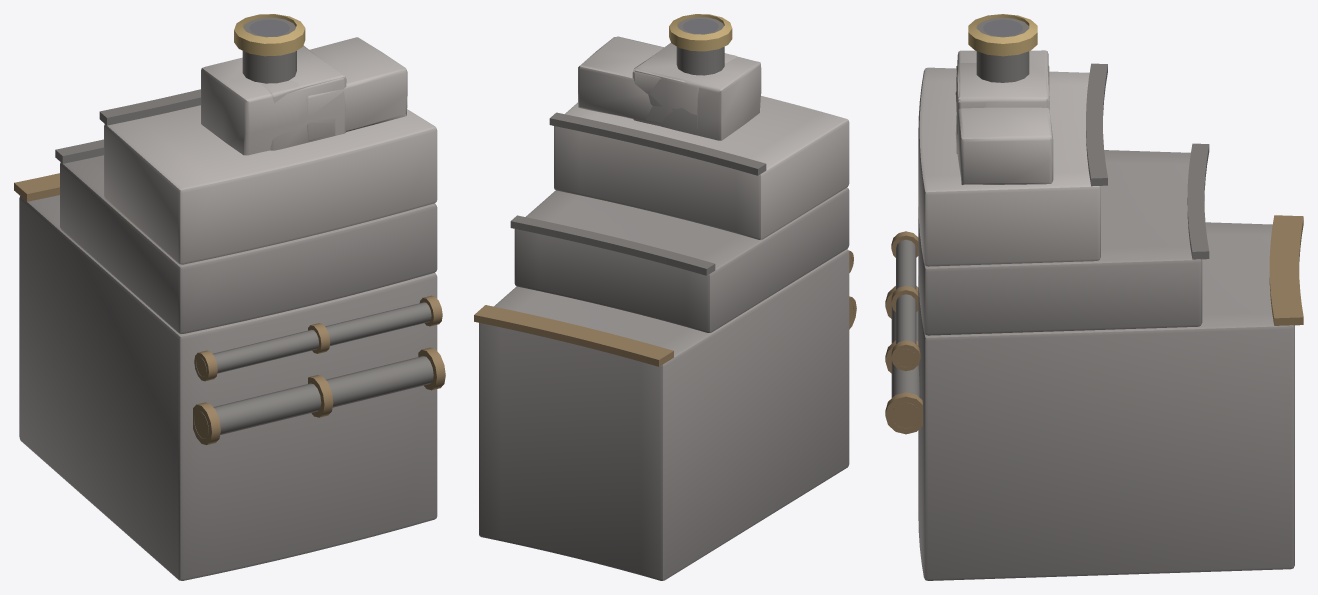
The model's file is SM_Area2_Wall_Vent.glb.
3 views of the same model, side by side, from view 1: azimuth 30°, elevation 25°; view 2: azimuth 150°, elevation 25°; view 3: azimuth 270°, elevation 25° (orthographic). The views are drawn at different scales.
Parts seen in each view (by area): view 1: SM_Area2_Wall_Vent; view 2: SM_Area2_Wall_Vent; view 3: SM_Area2_Wall_Vent.
Boxes of the visible parts, x1,y1,x2,y2 form: SM_Area2_Wall_Vent: [14, 14, 445, 580]; SM_Area2_Wall_Vent: [474, 14, 856, 580]; SM_Area2_Wall_Vent: [885, 14, 1303, 580].
Bounding box in the file's own units: 3.51 × 6.44 × 4.95.
